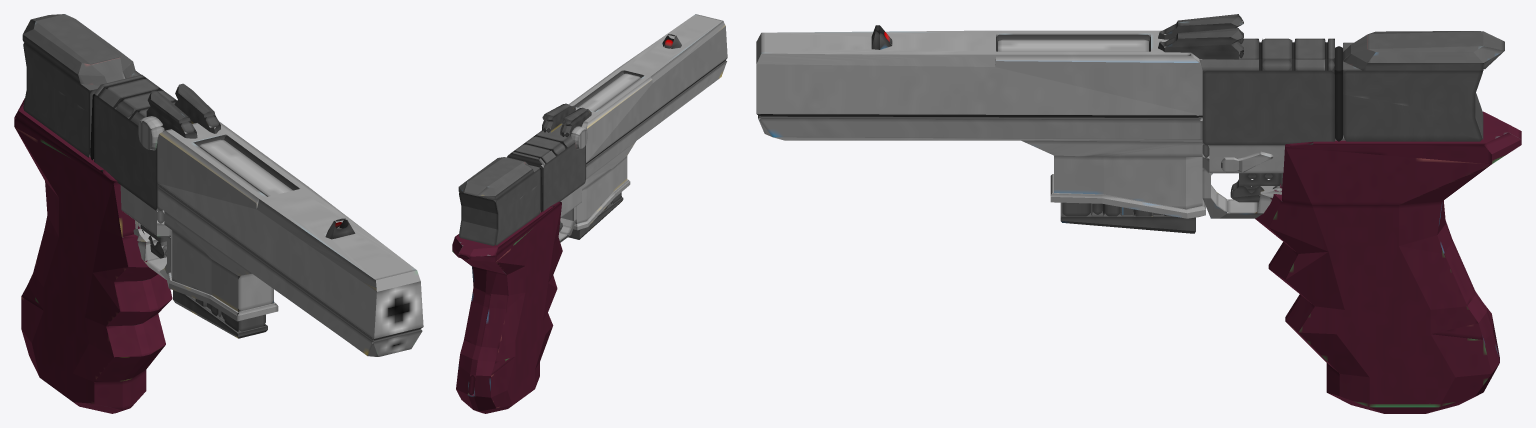
Rendered from Handgun.obj.
The picture shows the model from 3 angles, left to right: view 1: azimuth 30°, elevation 25°; view 2: azimuth 150°, elevation 25°; view 3: azimuth 270°, elevation 25°; orthographic projection. The views are drawn at different scales.
Parts seen in each view (by area): view 1: mesh, mesh_selection, Magazine; view 2: mesh, mesh_selection, Magazine; view 3: mesh, mesh_selection, Magazine.
Part boxes in pixels (left/top/right/bottom): mesh: left=14, top=14, right=422, bottom=413; mesh_selection: left=140, top=121, right=423, bottom=338; Magazine: left=173, top=275, right=267, bottom=338; mesh: left=452, top=58, right=726, bottom=413; mesh_selection: left=559, top=14, right=727, bottom=231; Magazine: left=568, top=166, right=623, bottom=239; mesh: left=757, top=14, right=1521, bottom=413; mesh_selection: left=756, top=25, right=1280, bottom=202; Magazine: left=1060, top=202, right=1195, bottom=233.
Bounding box in the file's own units: 0.3 × 1.59 × 2.89.
1 material, 1 textured.
